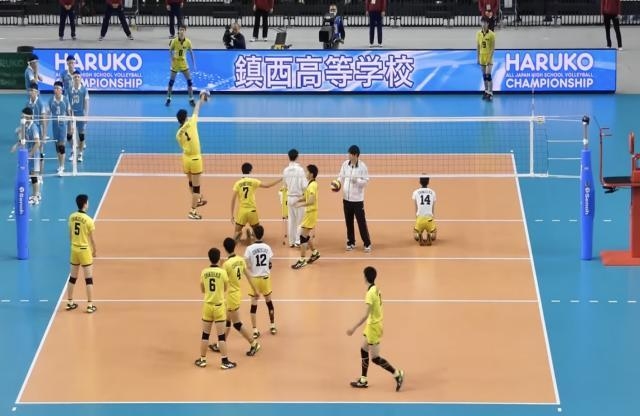spike: (174, 88, 213, 224)
